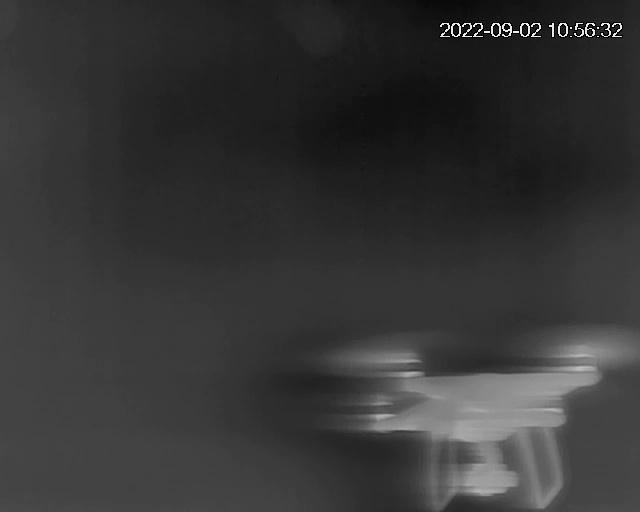DJI-Phantom: (328, 339, 640, 508)
